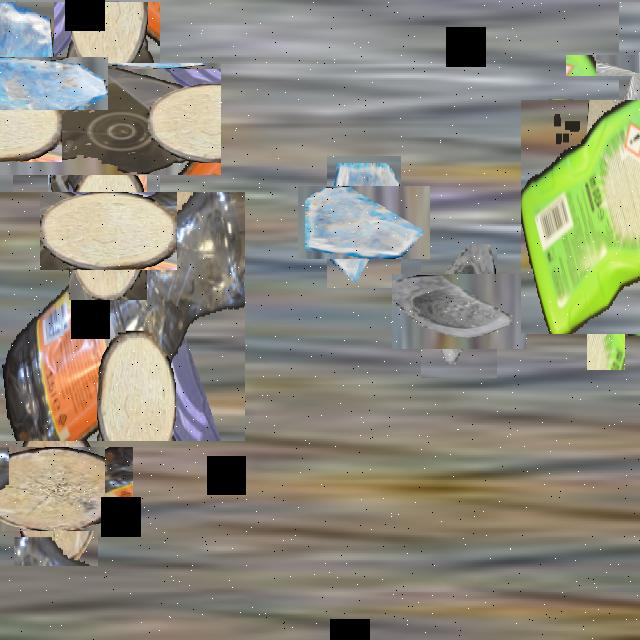glass: (13, 158, 97, 308), (406, 258, 512, 364), (312, 171, 416, 273), (0, 29, 81, 137), (592, 28, 640, 103)
plastic: (0, 192, 245, 441), (18, 32, 190, 206), (521, 100, 640, 334)
wood: (0, 429, 115, 548), (54, 177, 162, 285), (587, 238, 625, 370)
